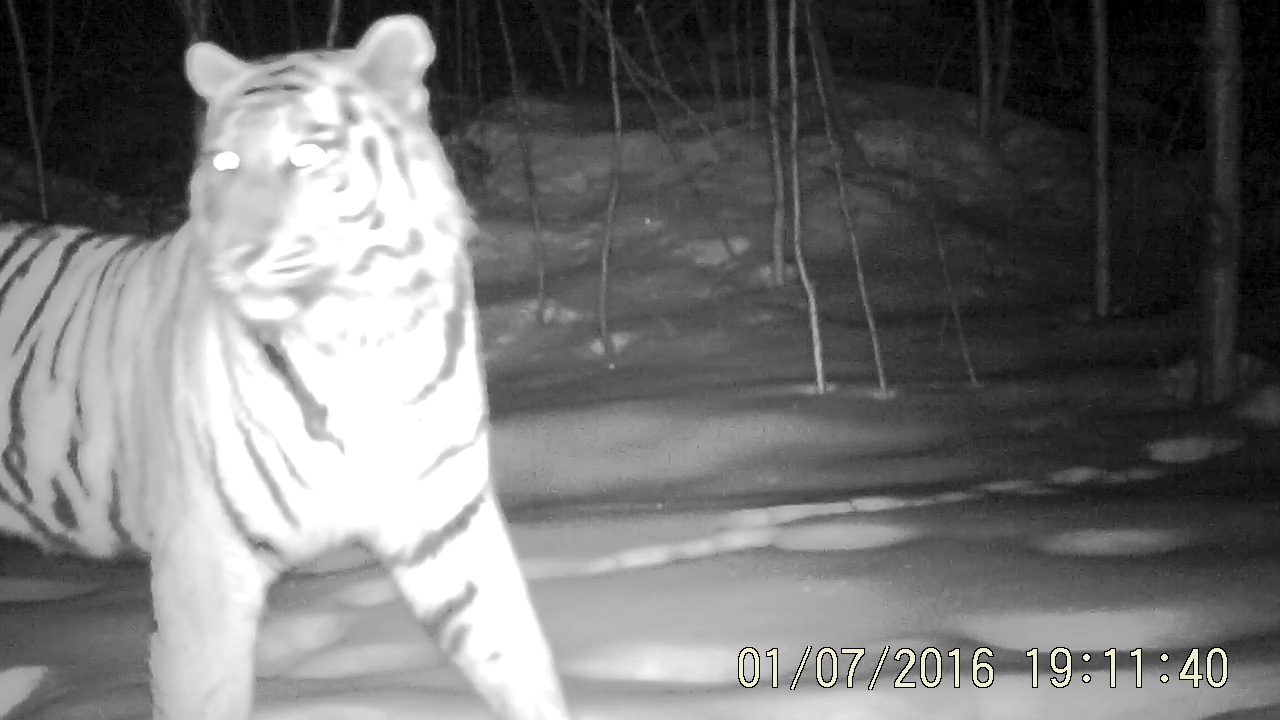Tiger: (1, 7, 622, 720)
